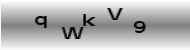9: (132, 20, 146, 34)
V: (106, 7, 123, 21)
W: (60, 26, 83, 40)
k: (82, 12, 95, 27)
q: (33, 15, 48, 29)
